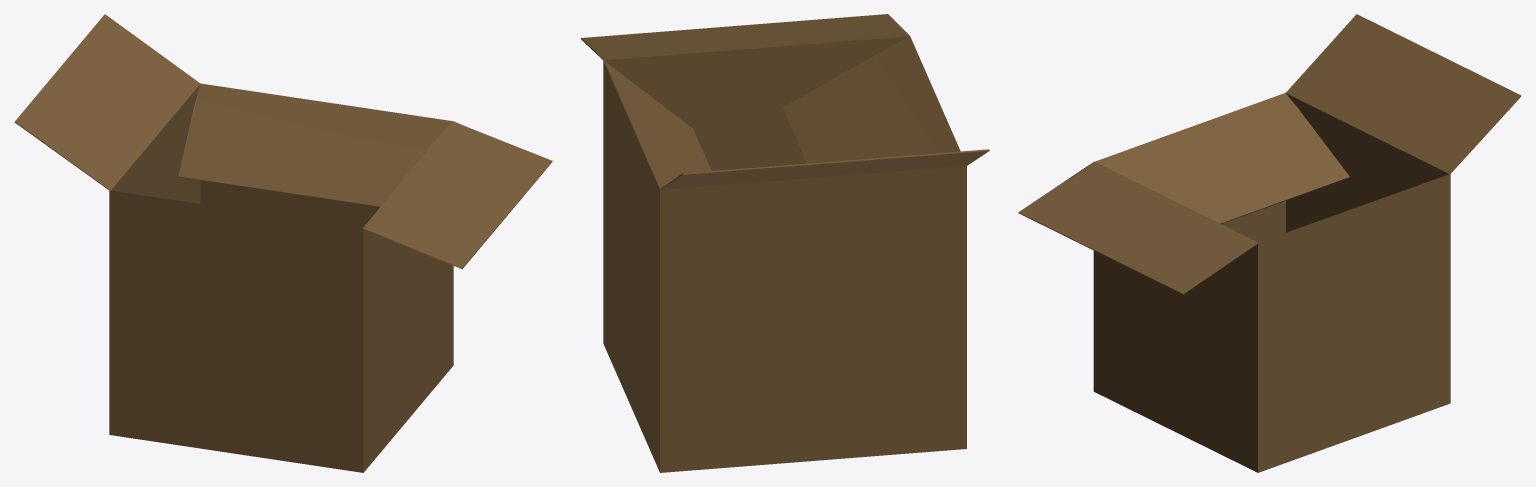
The model's file is Card Box.fbx.
The picture shows the model from 3 angles, left to right: view 1: azimuth 30°, elevation 25°; view 2: azimuth 150°, elevation 25°; view 3: azimuth 270°, elevation 25°; orthographic projection. The views are drawn at different scales.
Parts seen in each view (by area): view 1: Card Box; view 2: Card Box; view 3: Card Box.
Part boxes in pixels (x1,y1,x2,y2): Card Box: (14, 14, 552, 472); Card Box: (581, 14, 989, 472); Card Box: (1018, 14, 1521, 472).
Size of the model in its own units: 108 by 113 by 69.73.
